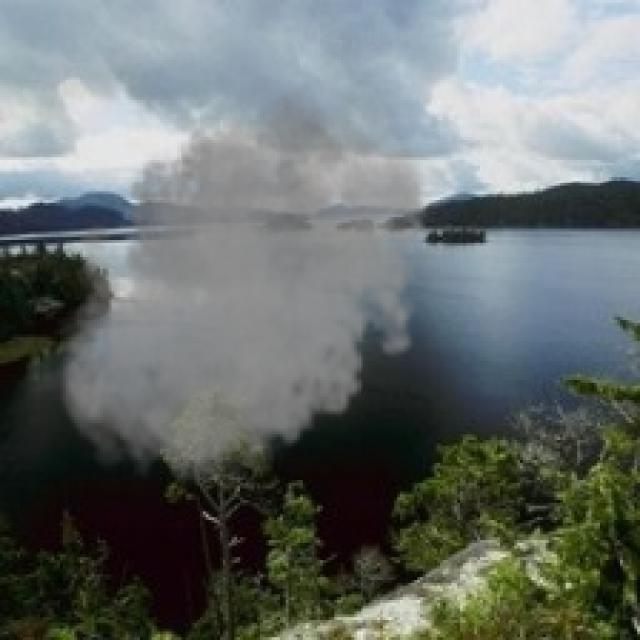Smoke: (54, 72, 440, 494)
